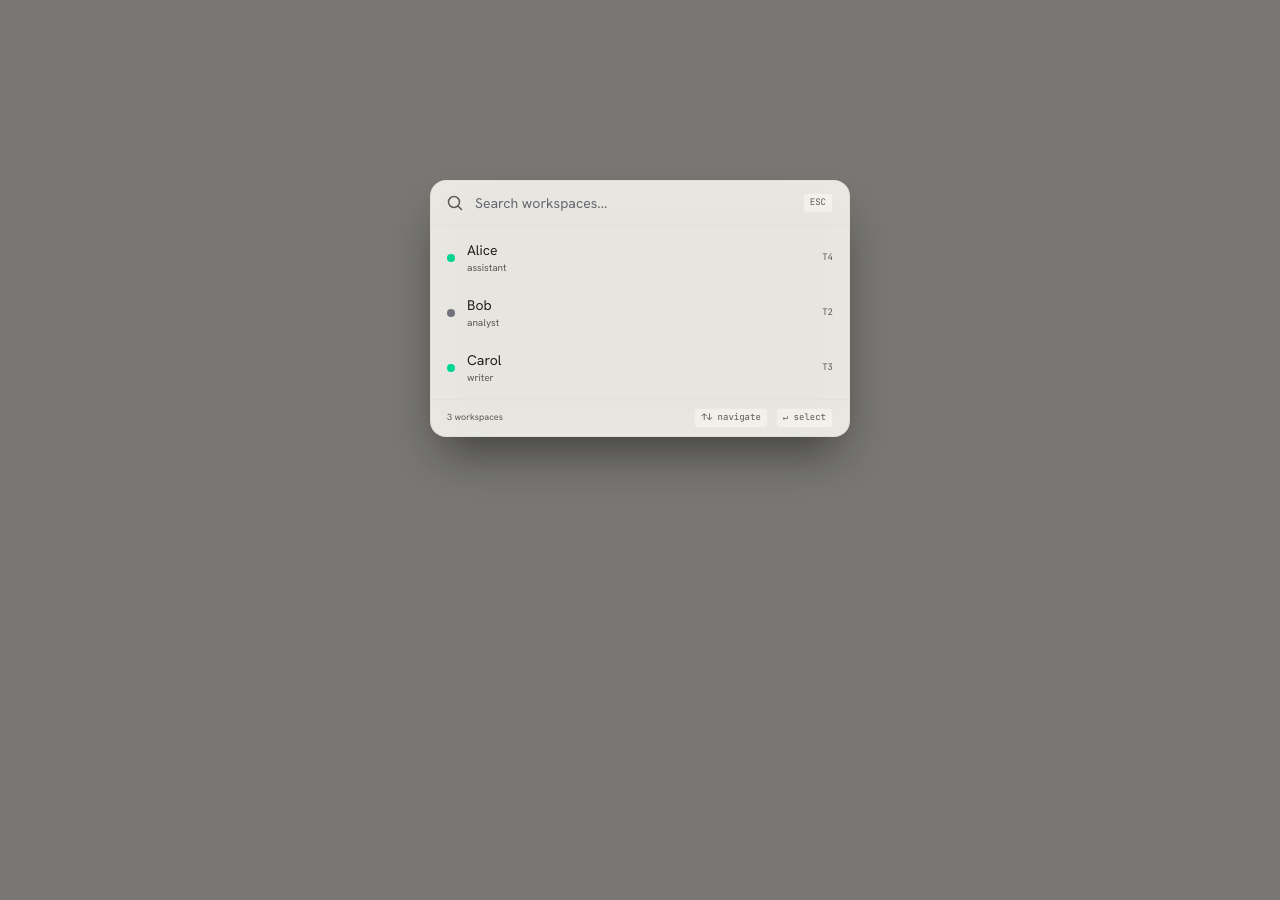
SearchDialog — filtering › filters workspaces by status
Type "online" into the dropdown.
click(633, 203); type("online")  # box [475,193,791,213]
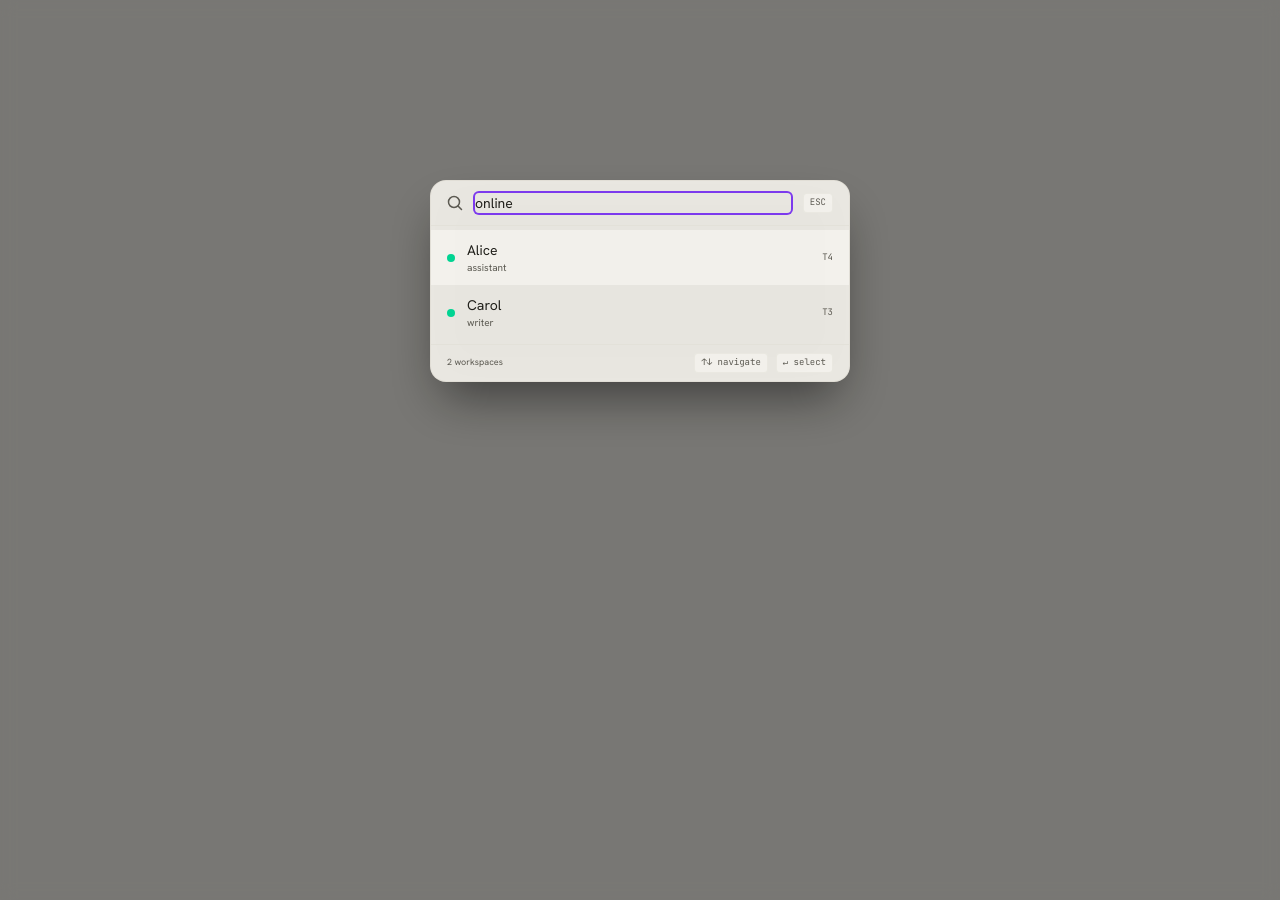
Expected: the text "Alice" is shown, [467,241,498,259]
Now the option "Bob" is gone
